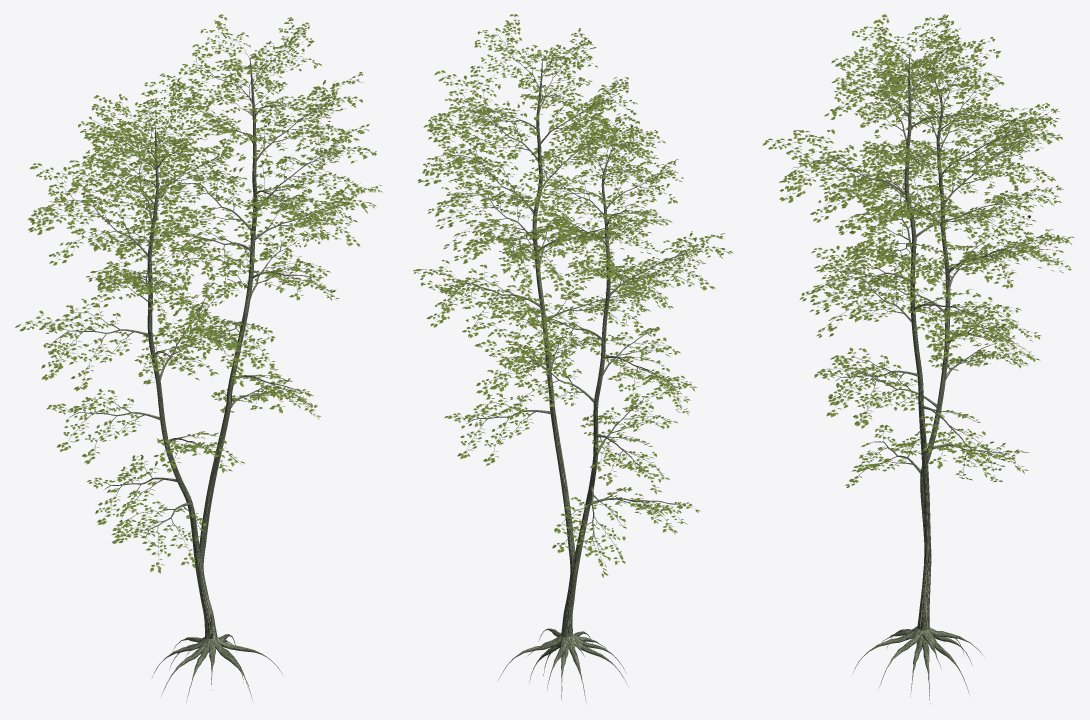
3 renders of one model, left to right at view 1: azimuth 30°, elevation 25°; view 2: azimuth 150°, elevation 25°; view 3: azimuth 270°, elevation 25°, orthographic. The views are drawn at different scales.
Parts seen in each view (by area): view 1: Beech_Medium_03.Shape; view 2: Beech_Medium_03.Shape; view 3: Beech_Medium_03.Shape.
Boxes of the visible parts, bbox=[...] form: Beech_Medium_03.Shape: bbox=[15, 14, 382, 701]; Beech_Medium_03.Shape: bbox=[413, 14, 733, 705]; Beech_Medium_03.Shape: bbox=[762, 14, 1074, 703].
Size of the model in its own units: 4.68 by 9.73 by 4.05.
Materials: 2 (2 with a texture image).
